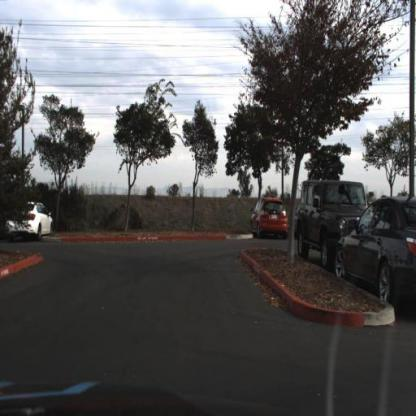car: (334, 197, 416, 312), (295, 178, 373, 270), (298, 180, 344, 269), (6, 199, 56, 243), (7, 201, 53, 241), (249, 197, 289, 239)
